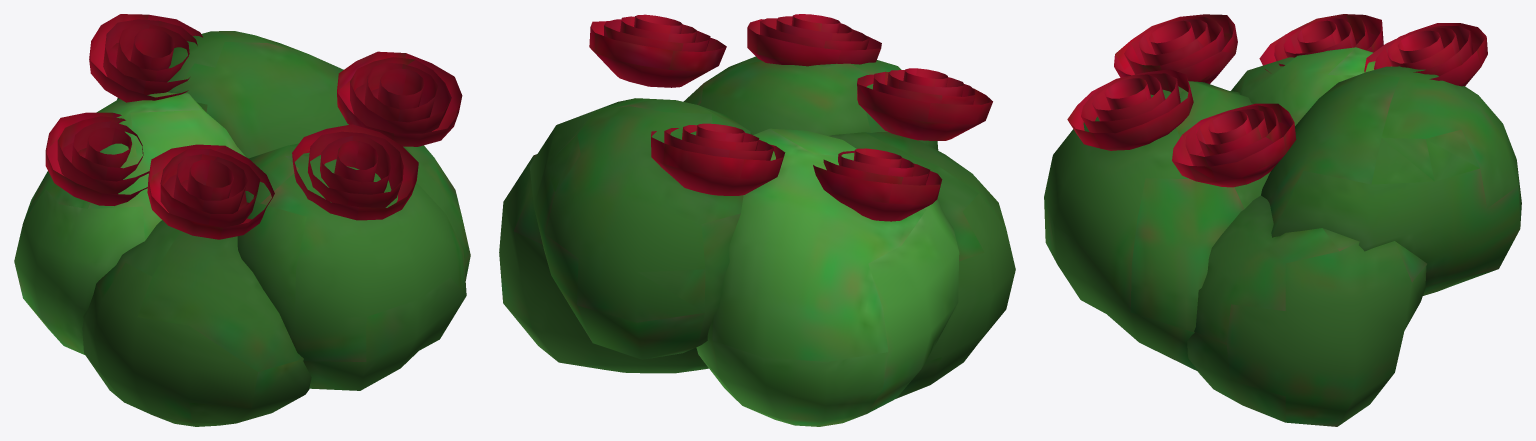
File: crop_rose.glb
The picture shows the model from 3 angles, left to right: view 1: azimuth 30°, elevation 25°; view 2: azimuth 150°, elevation 25°; view 3: azimuth 270°, elevation 25°; orthographic projection. The views are drawn at different scales.
Parts seen in each view (by area): view 1: crop_rose, fruit; view 2: crop_rose, fruit; view 3: crop_rose, fruit.
Boxes of the visible parts, <box> form: crop_rose: <box>14,31,470,426</box>; fruit: <box>45,14,462,239</box>; crop_rose: <box>499,56,1015,426</box>; fruit: <box>589,14,992,221</box>; crop_rose: <box>1044,47,1521,426</box>; fruit: <box>1067,14,1487,187</box>.
Bounding box in the file's own units: 0.2302 × 0.1672 × 0.2385.
Materials: 1 (1 with a texture image).
